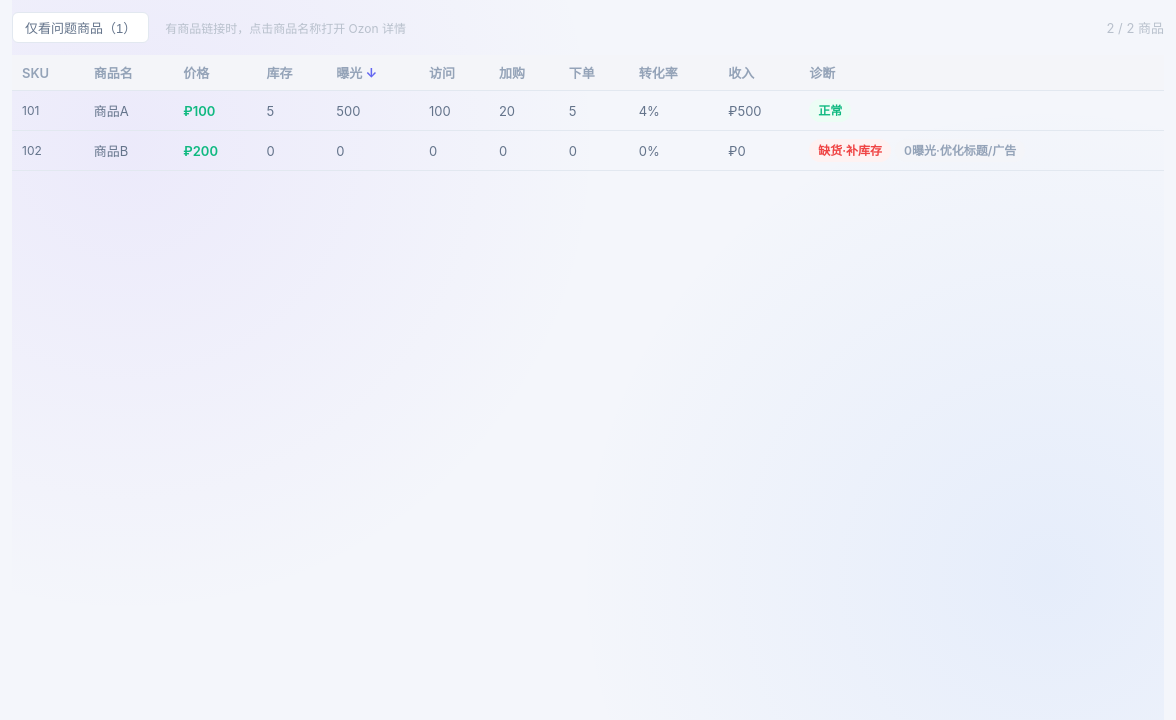
Test: ProductTable › 「仅看问题商品」筛选（按钮，含计数）
Click the button "仅看问题商品（1）".
click(81, 28)  # box [12, 12, 149, 43]
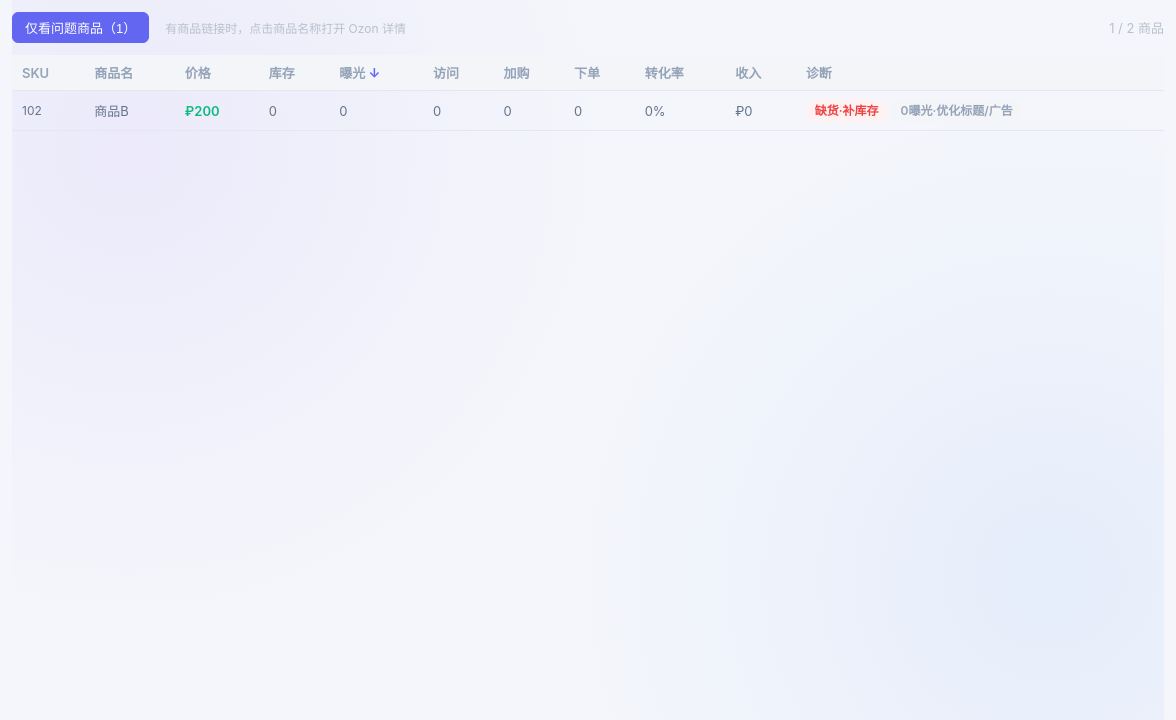
Check: the text "商品B" is shown, box [94, 103, 129, 119]
Check: the text "商品A" is gone
